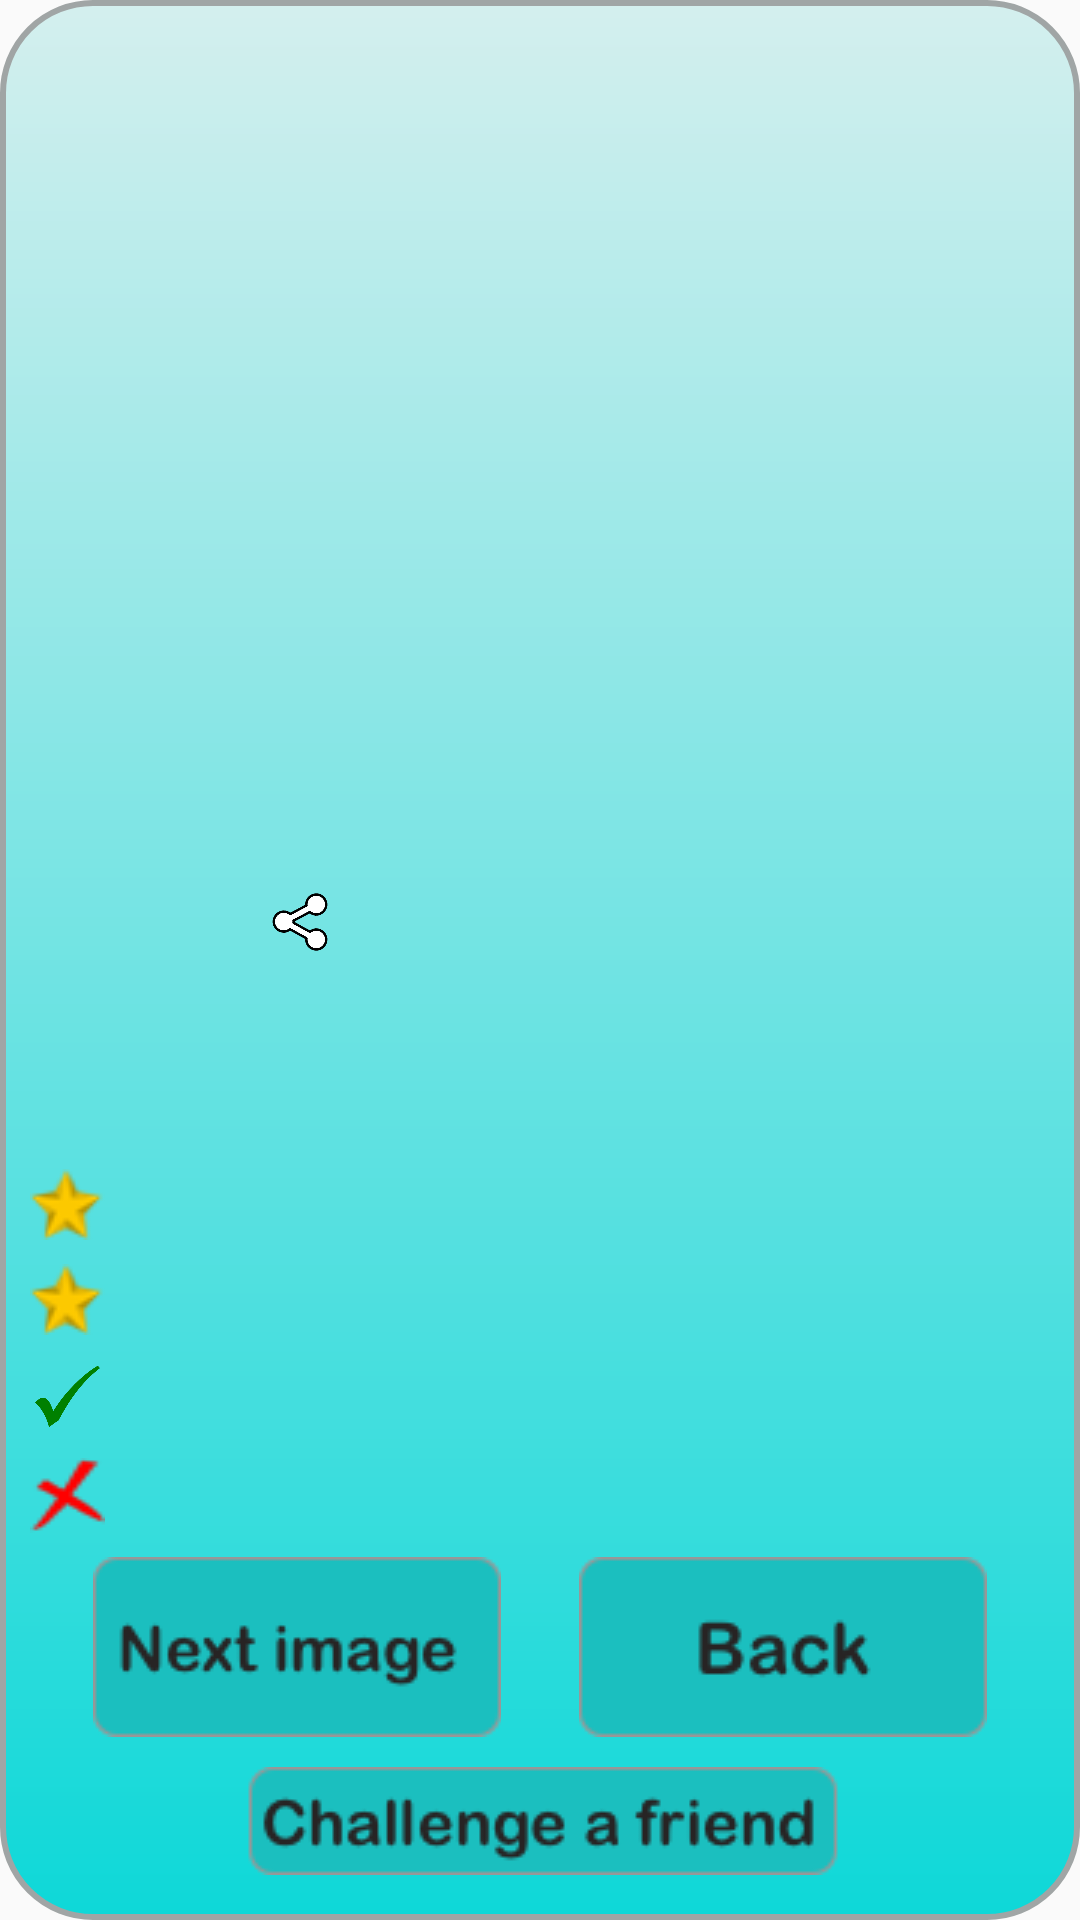

Screen size 1080px×1920px. Icon name, then its box in pixels as region(x1, y1, x2, y2):
share: region(272, 893, 328, 951)
star: region(30, 1171, 102, 1240), region(30, 1266, 102, 1335)
